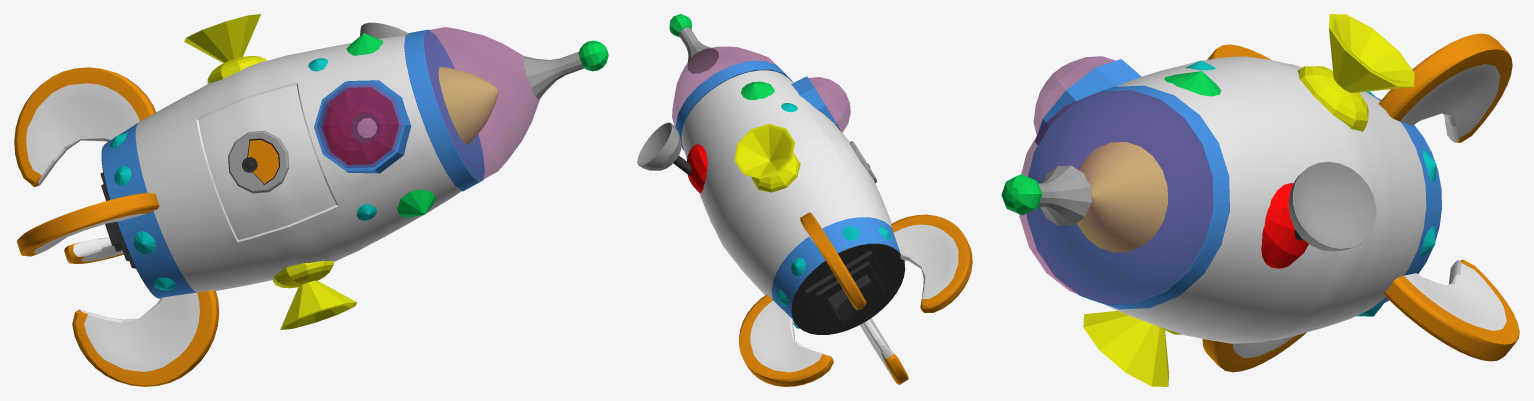
File: AE_SSDolphin_014.fbx
3 renders of one model, left to right at view 1: azimuth 30°, elevation 25°; view 2: azimuth 150°, elevation 25°; view 3: azimuth 270°, elevation 25°, orthographic. The views are drawn at different scales.
Parts seen in each view (by area): view 1: SSD_Hull, SSD_TopDome, SSD_Fin_04, SSD_Fin_03, SSD_TopLight, SSD_Cockpit_Window, SSD_Cockpit_Seat, SSD_Fin_01, SSD_GoldSideThruster_01, SSD_GeigerCounter, SSD_GoldSideThruster_02, SSD_Cockpit_Frame (+7 smaller); view 2: SSD_Hull, SSD_Fin_01, SSD_Fin_02, SSD_GoldSideThruster_02, SSD_LightSwitch, SSD_TopDome, SSD_Fin_03, SSD_Satellite_Reciever, SSD_TopLight, SSD_Cockpit_Window, SSD_Fin_04, SSD_Antenna (+4 smaller); view 3: SSD_Hull, SSD_TopLight, SSD_TopDome, SSD_Fin_03, SSD_Fin_02, SSD_GoldSideThruster_02, SSD_Satellite_Reciever, SSD_GoldSideThruster_01, SSD_Antenna, SSD_Satellite_Base, SSD_Cockpit_Frame, SSD_Fin_04 (+4 smaller).
Part boxes in pixels (bbox=[...]): SSD_Hull: bbox=[101, 35, 461, 298]; SSD_TopDome: bbox=[423, 27, 539, 181]; SSD_Fin_04: bbox=[72, 290, 219, 386]; SSD_Fin_03: bbox=[14, 67, 155, 186]; SSD_TopLight: bbox=[404, 29, 498, 191]; SSD_Cockpit_Window: bbox=[317, 84, 402, 167]; SSD_Cockpit_Seat: bbox=[323, 87, 398, 164]; SSD_Fin_01: bbox=[17, 193, 159, 256]; SSD_GoldSideThruster_01: bbox=[273, 260, 356, 329]; SSD_GeigerCounter: bbox=[228, 130, 289, 193]; SSD_GoldSideThruster_02: bbox=[184, 14, 266, 84]; SSD_Cockpit_Frame: bbox=[314, 80, 411, 173]; SSD_Hull: bbox=[681, 70, 905, 334]; SSD_Fin_01: bbox=[891, 214, 972, 312]; SSD_Fin_02: bbox=[739, 294, 833, 386]; SSD_GoldSideThruster_02: bbox=[734, 123, 800, 192]; SSD_LightSwitch: bbox=[805, 250, 894, 331]; SSD_TopDome: bbox=[672, 46, 775, 126]; SSD_Fin_03: bbox=[800, 212, 866, 309]; SSD_Satellite_Reciever: bbox=[637, 122, 681, 170]; SSD_TopLight: bbox=[675, 61, 792, 150]; SSD_Cockpit_Window: bbox=[808, 77, 850, 132]; SSD_Fin_04: bbox=[860, 318, 908, 384]; SSD_Antenna: bbox=[679, 27, 718, 73]; SSD_Hull: bbox=[1106, 56, 1441, 343]; SSD_TopLight: bbox=[1027, 85, 1229, 309]; SSD_TopDome: bbox=[1019, 90, 1212, 303]; SSD_Fin_03: bbox=[1378, 33, 1512, 142]; SSD_Fin_02: bbox=[1383, 259, 1519, 361]; SSD_GoldSideThruster_02: bbox=[1297, 14, 1414, 131]; SSD_Satellite_Reciever: bbox=[1288, 161, 1376, 251]; SSD_GoldSideThruster_01: bbox=[1083, 310, 1181, 386]; SSD_Antenna: bbox=[1038, 165, 1091, 225]; SSD_Satellite_Base: bbox=[1261, 183, 1308, 268]; SSD_Cockpit_Frame: bbox=[1035, 59, 1141, 144]; SSD_Fin_04: bbox=[1202, 332, 1306, 372].
Bounding box in the file's own units: 679 × 436 × 472.
